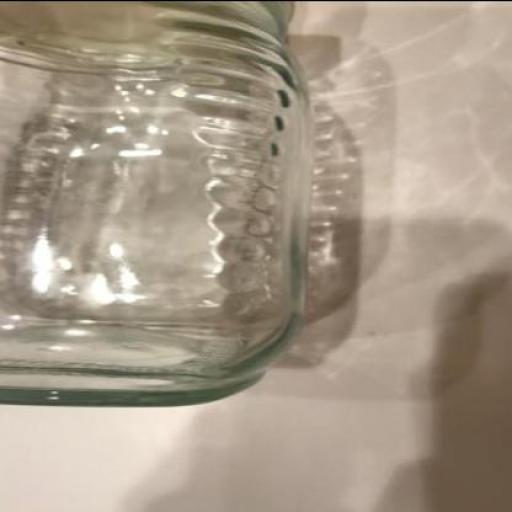glass: (0, 1, 305, 406)
